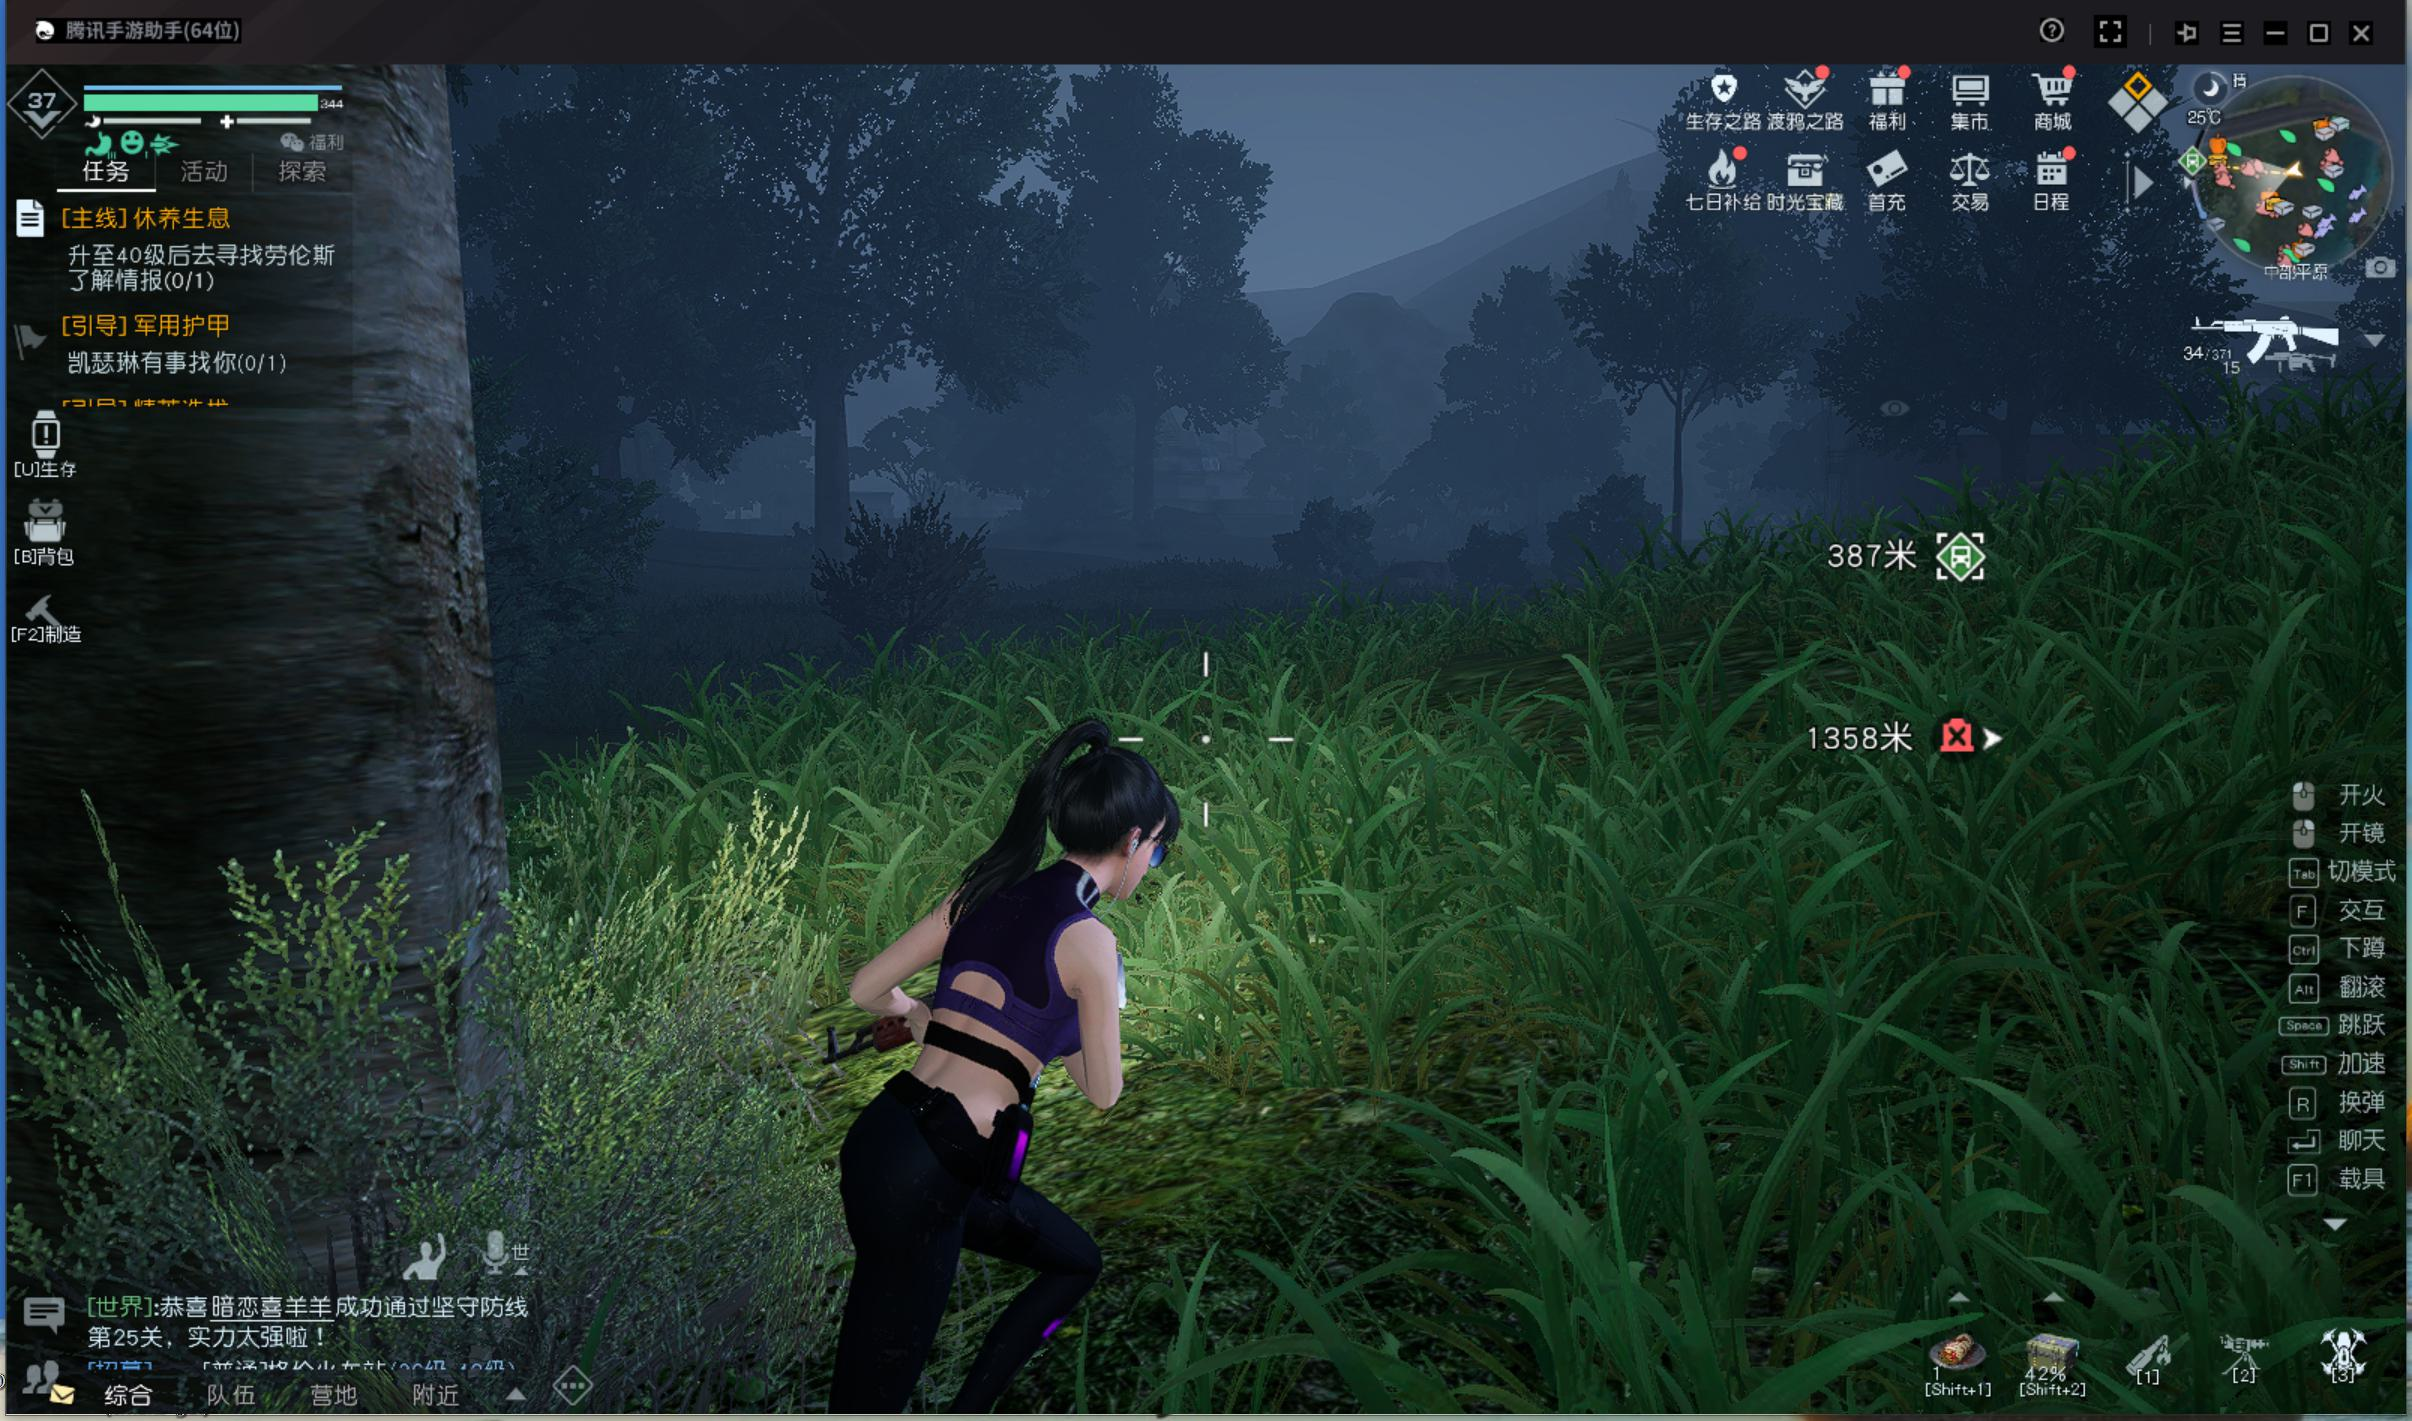tree: (805, 348, 876, 594), (1123, 414, 1172, 557)
